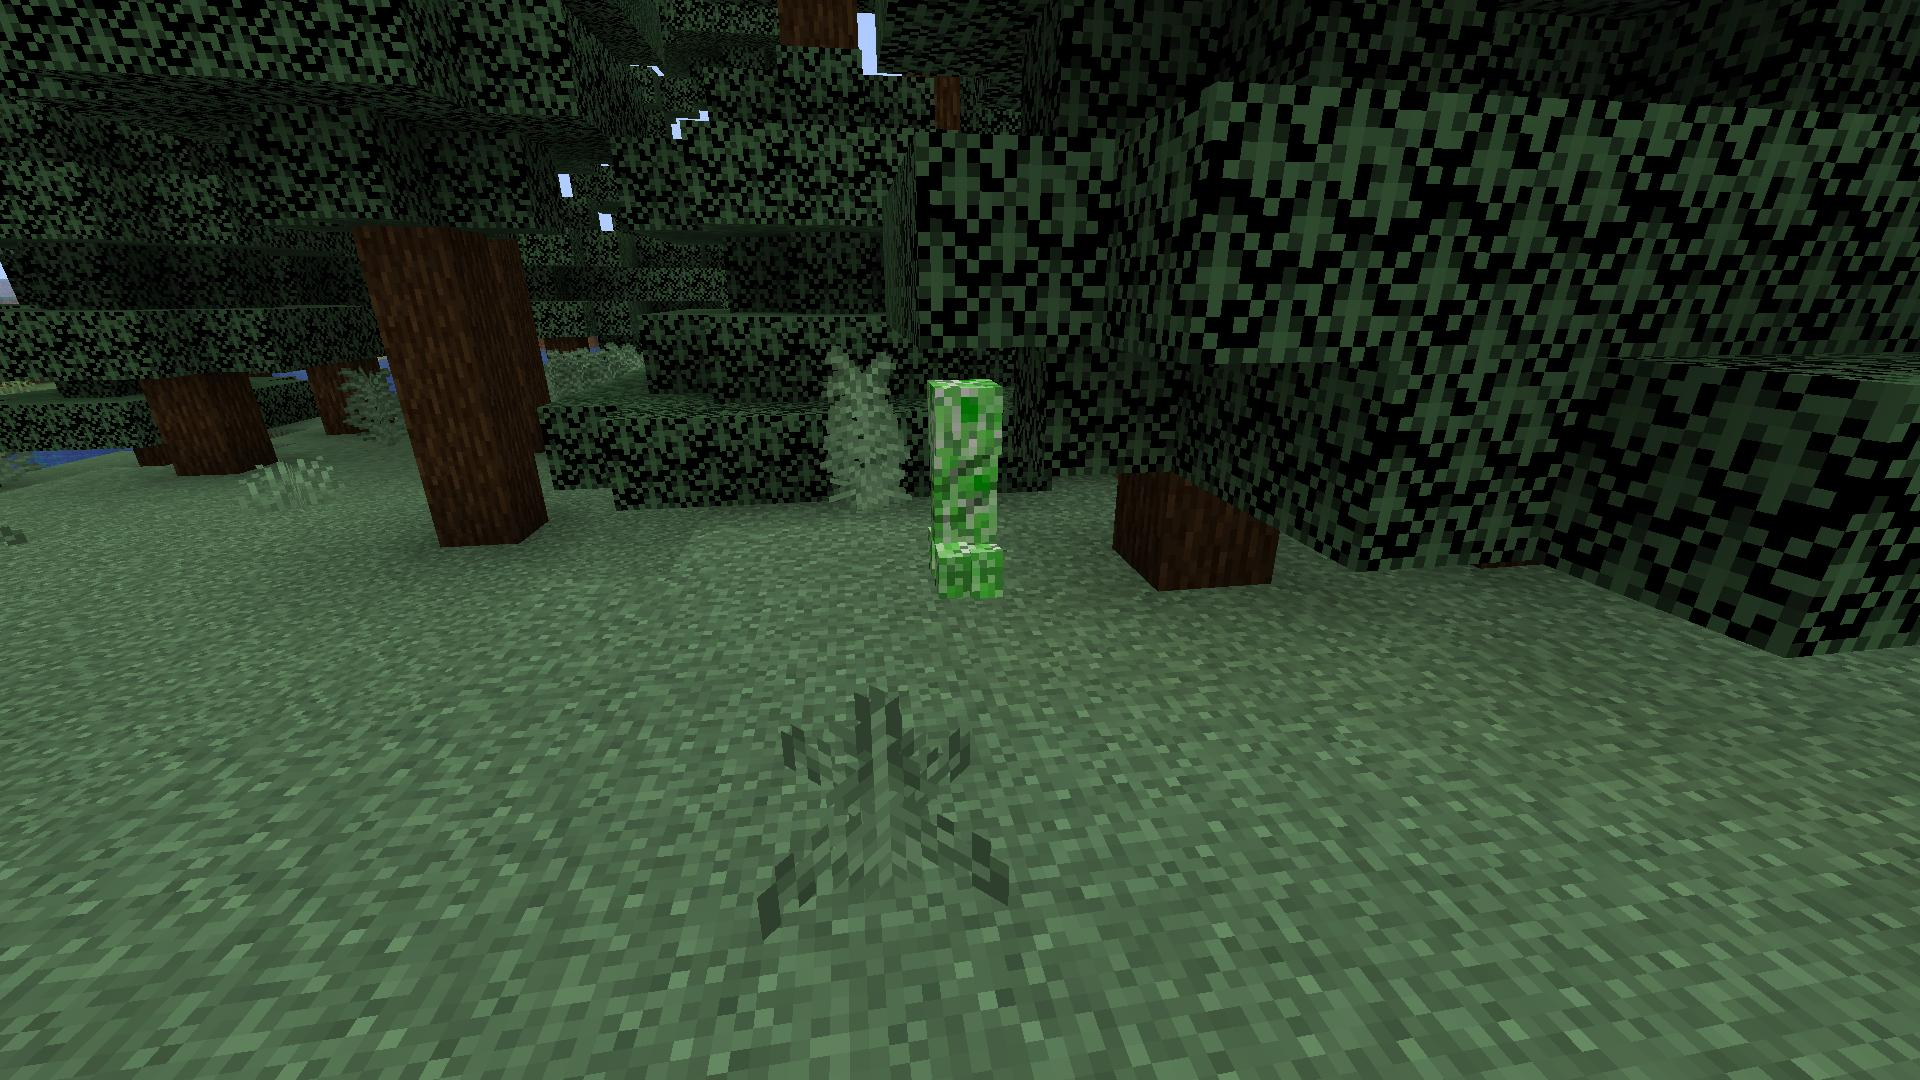creeper: (916, 368, 1013, 612)
